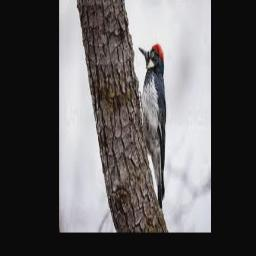Woodpecker: (138, 43, 166, 210)
